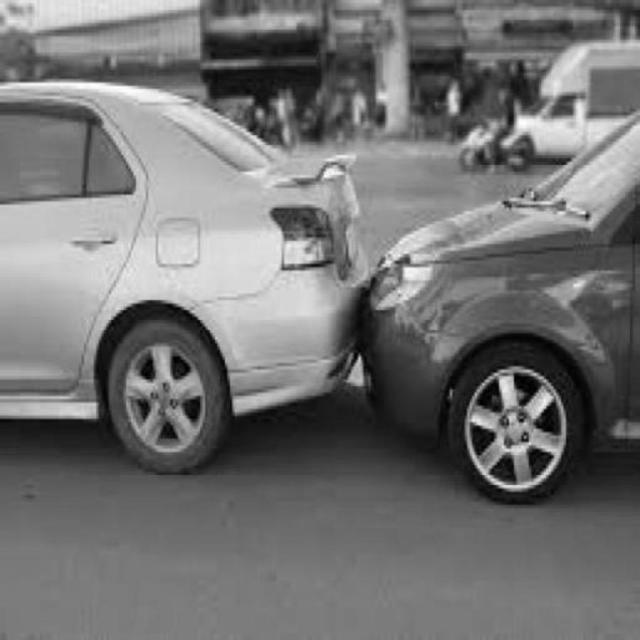accident: (6, 78, 640, 508)
